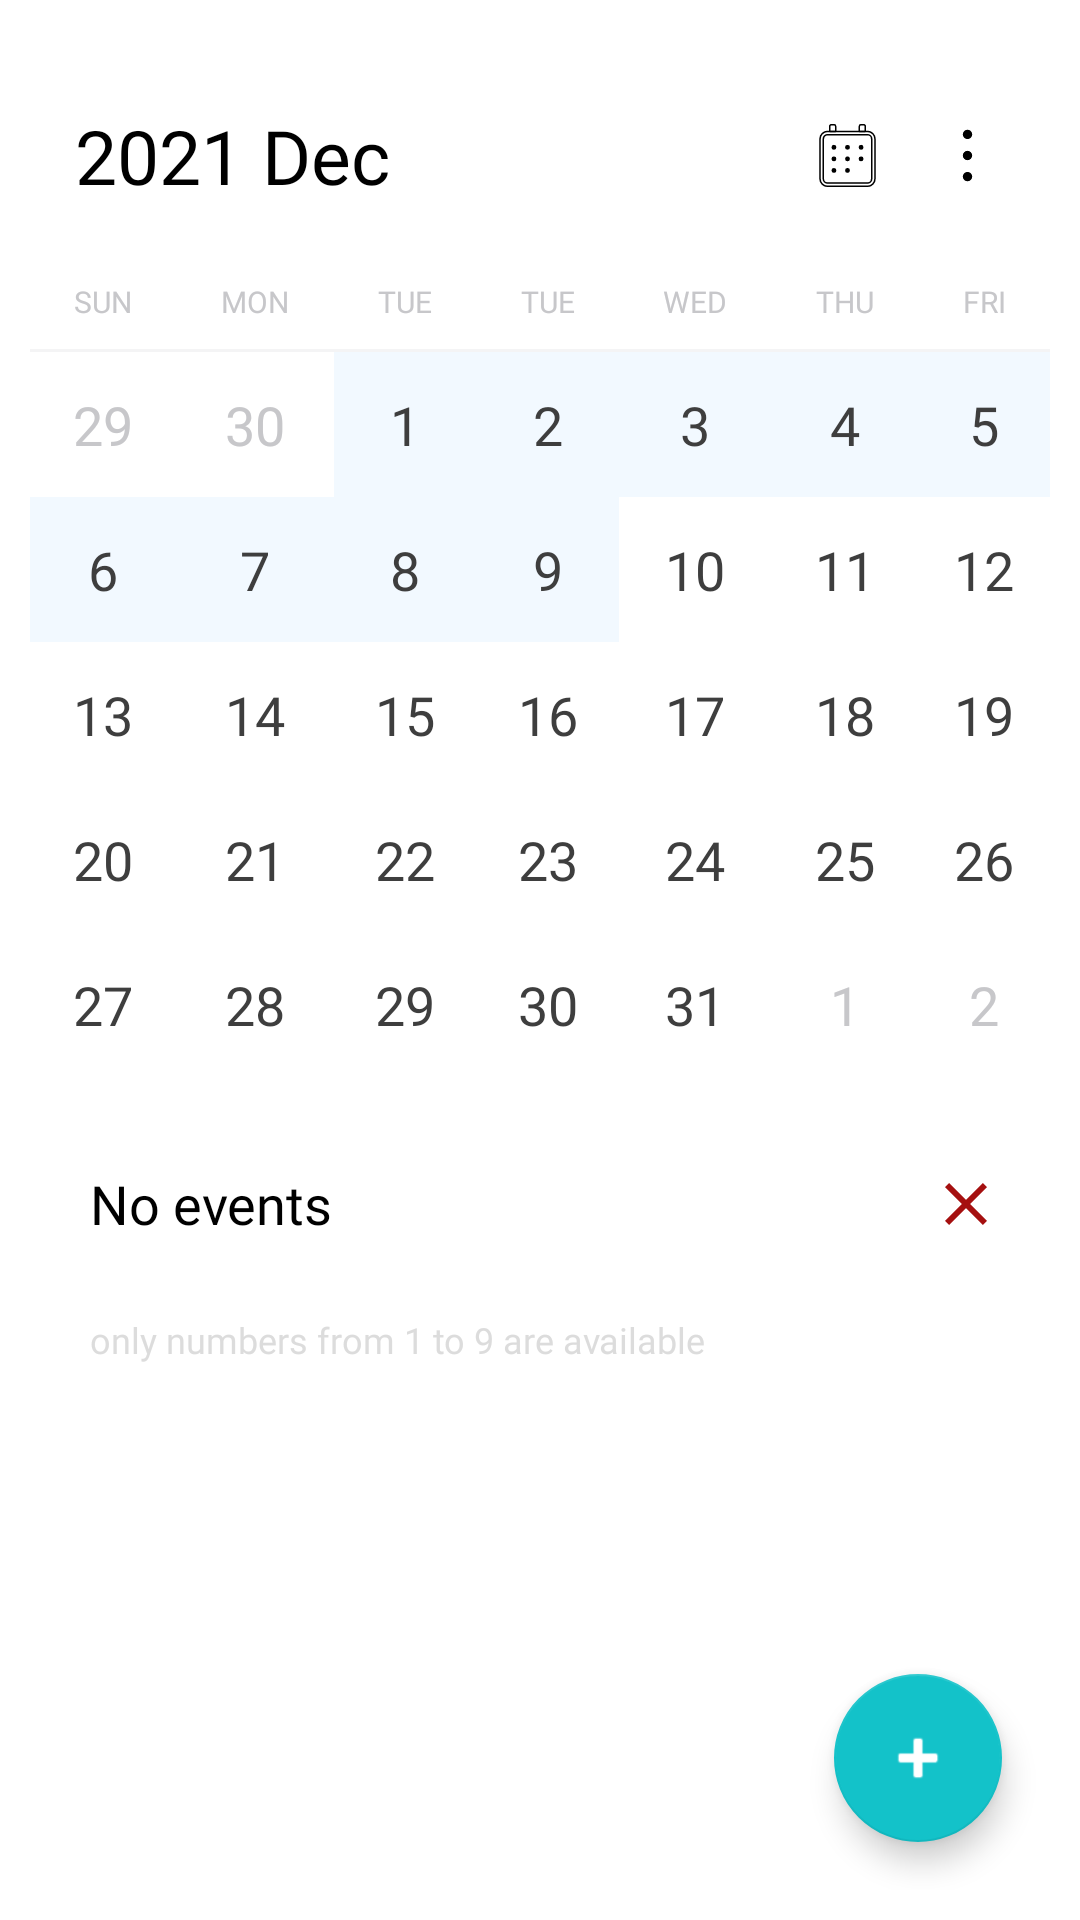

Point at icon controls on the screen. Image size 1080 x 1920, points as (x=x, y=y).
add: (x=918, y=1758)
cal: (x=847, y=155)
close: (x=966, y=1204)
dots: (x=967, y=155)
